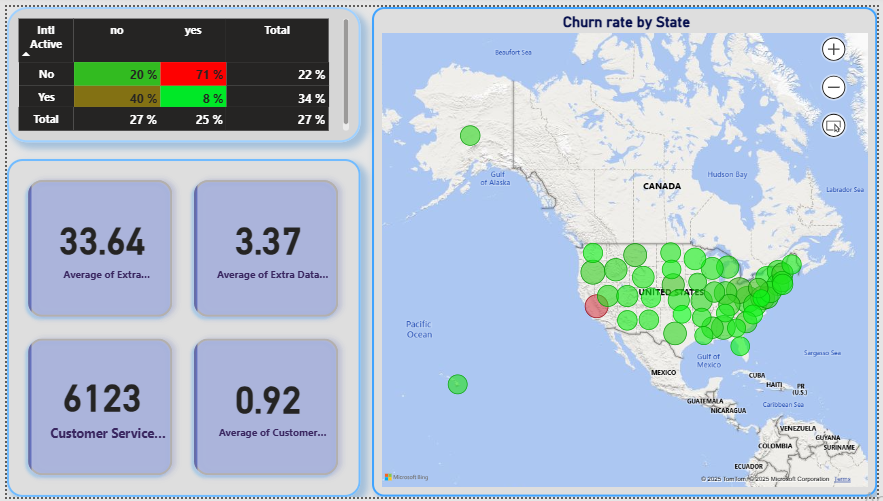

The page's visual inventory and layout, read from the dashboard file:
{"tool":"powerbi","page":{"name":"international plan","canvas":[1280,720],"ordinal":2},"visuals":[{"type":"map","title":"Churn rate by State","fields":{"Category":["Databel - Data.State"],"Size":["Databel - Data.no of churned customer"]},"box":[537.1,0,743,720],"z":0},{"type":"pivotTable","fields":{"Values":["Databel - Data.churn rate"],"Columns":["Databel - Data.Intl Plan"],"Rows":["Databel - Data.Intl Active"]},"box":[0,0,519.8,198.7],"z":1000},{"type":"cardVisual","fields":{"Data":["Avg(Databel - Data.Extra International Charges)","Avg(Databel - Data.Extra Data Charges)","Sum(Databel - Data.Customer Service Calls)","Avg(Databel - Data.Customer Service Calls)"]},"box":[0,223.2,519.8,496.8],"z":2000}]}

Visuals, with their boxes in screenshot pixels (x1, y1, x2, y2), scaled from the page's 1280x720 canvas onto the 883x501 screenshot:
"Churn rate by State" map: pyautogui.locateOnScreen(371, 0, 882, 500)
pivotTable - Databel - Data.churn rate x Databel - Data.Intl Plan: pyautogui.locateOnScreen(0, 0, 359, 138)
cardVisual - Avg(Databel - Data.Extra International Charges) x Avg(Databel - Data.Extra Data Charges): pyautogui.locateOnScreen(0, 155, 359, 500)
